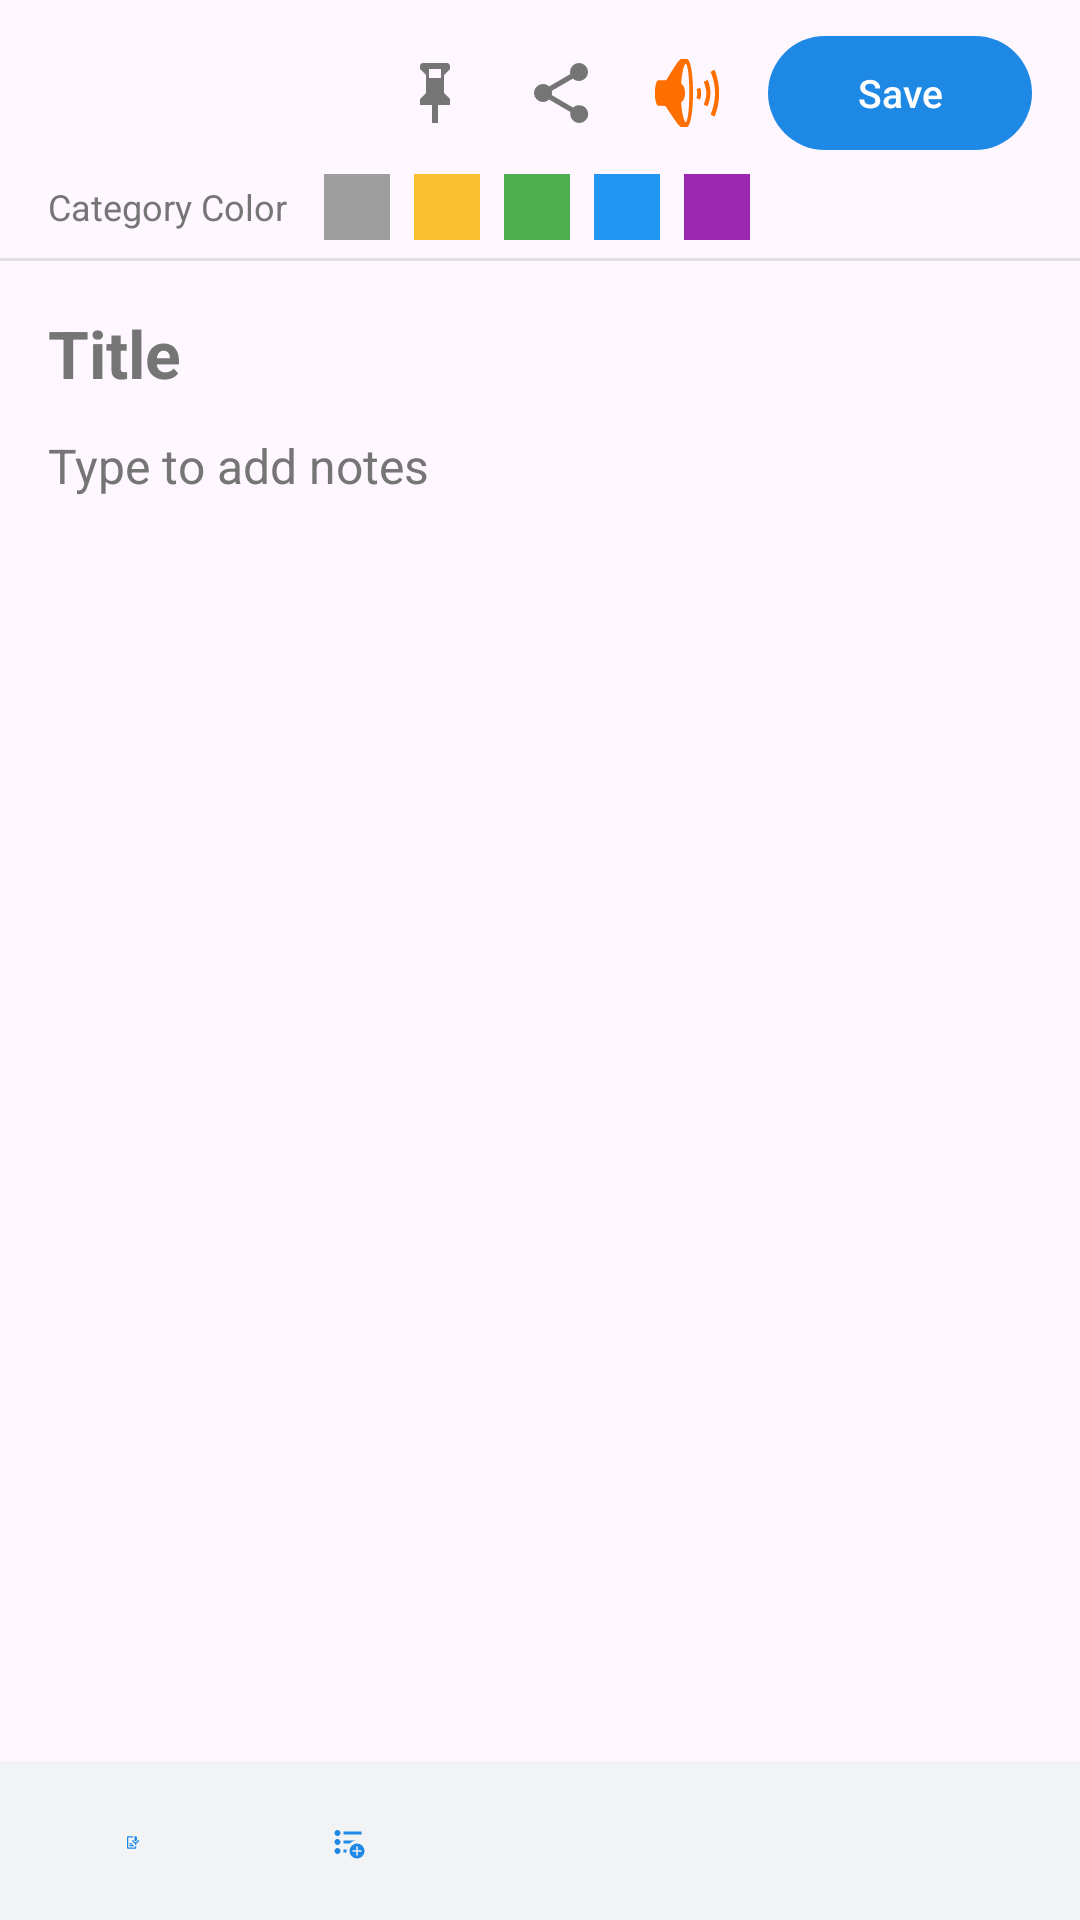

Named icons in this screenshot (1080px x 1920px) and their centers, (x,y):
list bulleted: (349,1844)
Pin Note: (435,93)
Share Note: (561,93)
